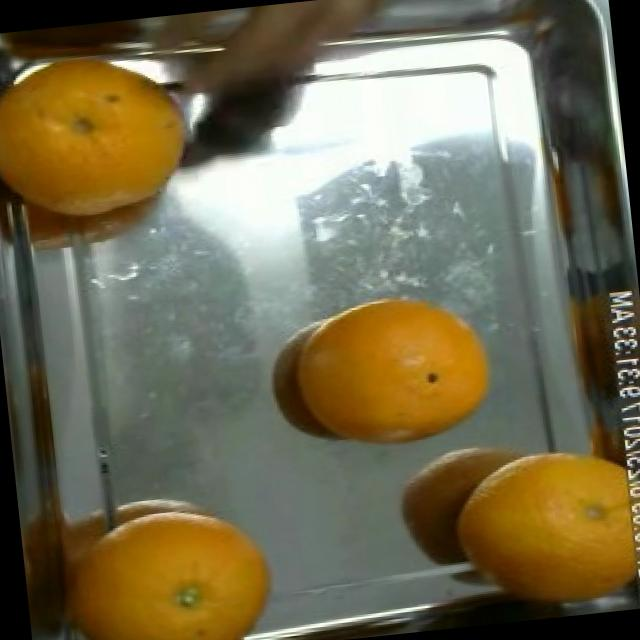Fruit: (288, 277, 513, 468), (431, 436, 640, 628)
